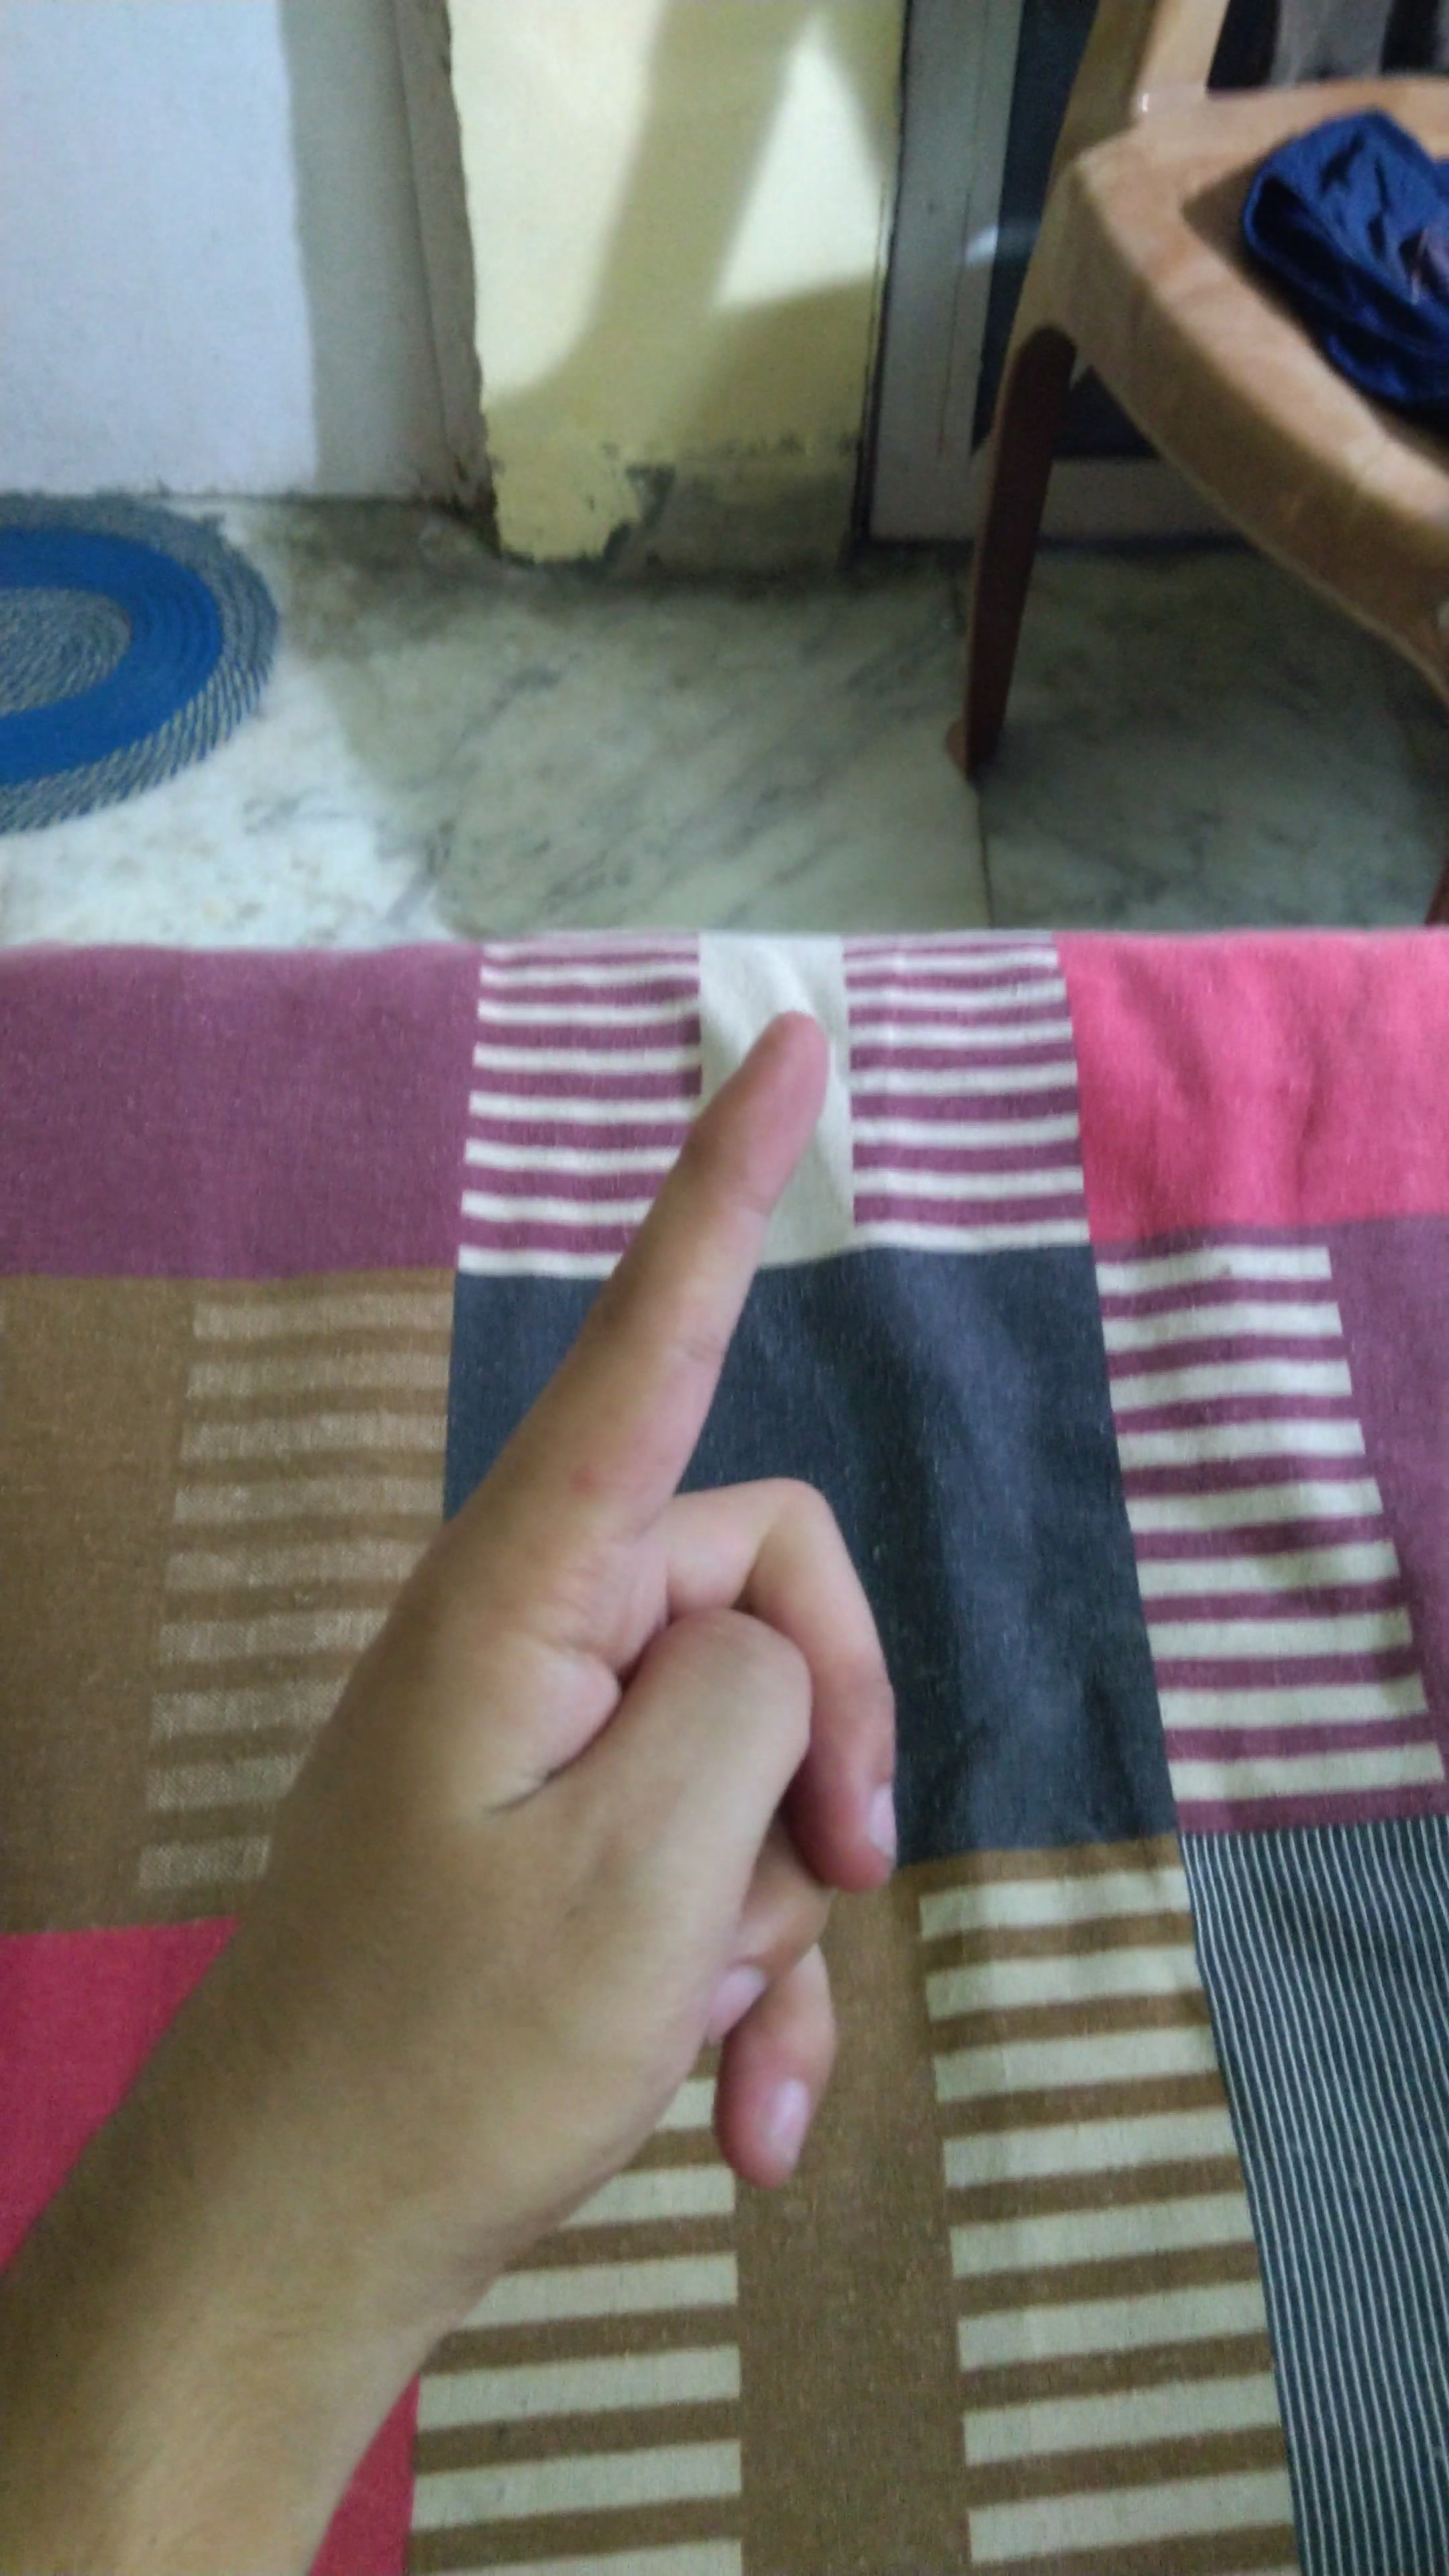hand: (228, 1016, 957, 2242)
